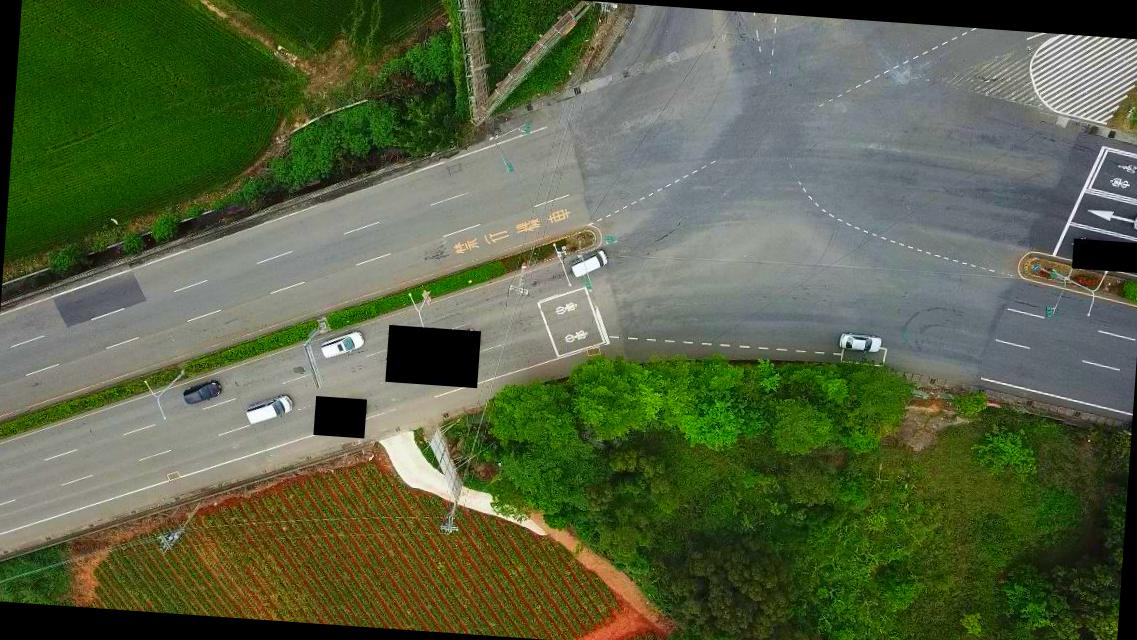vehicle: (244, 393, 292, 427), (318, 328, 364, 361), (566, 247, 609, 280), (183, 378, 221, 408), (838, 331, 882, 354)
